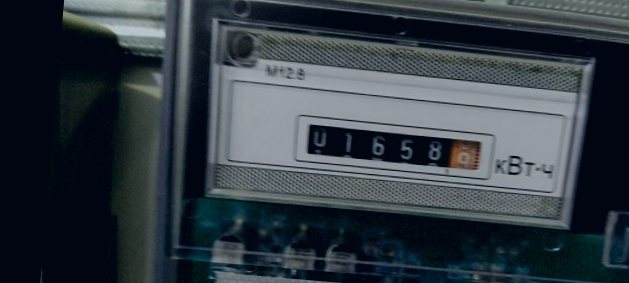0: (309, 125, 328, 147)
1: (339, 129, 355, 154)
5: (396, 135, 414, 161)
6: (368, 132, 388, 157)
8: (424, 138, 443, 161)
9: (453, 148, 470, 170)
screen: (288, 109, 498, 185)
